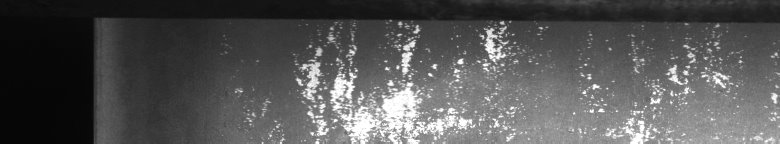kb: (221, 12, 776, 136)
